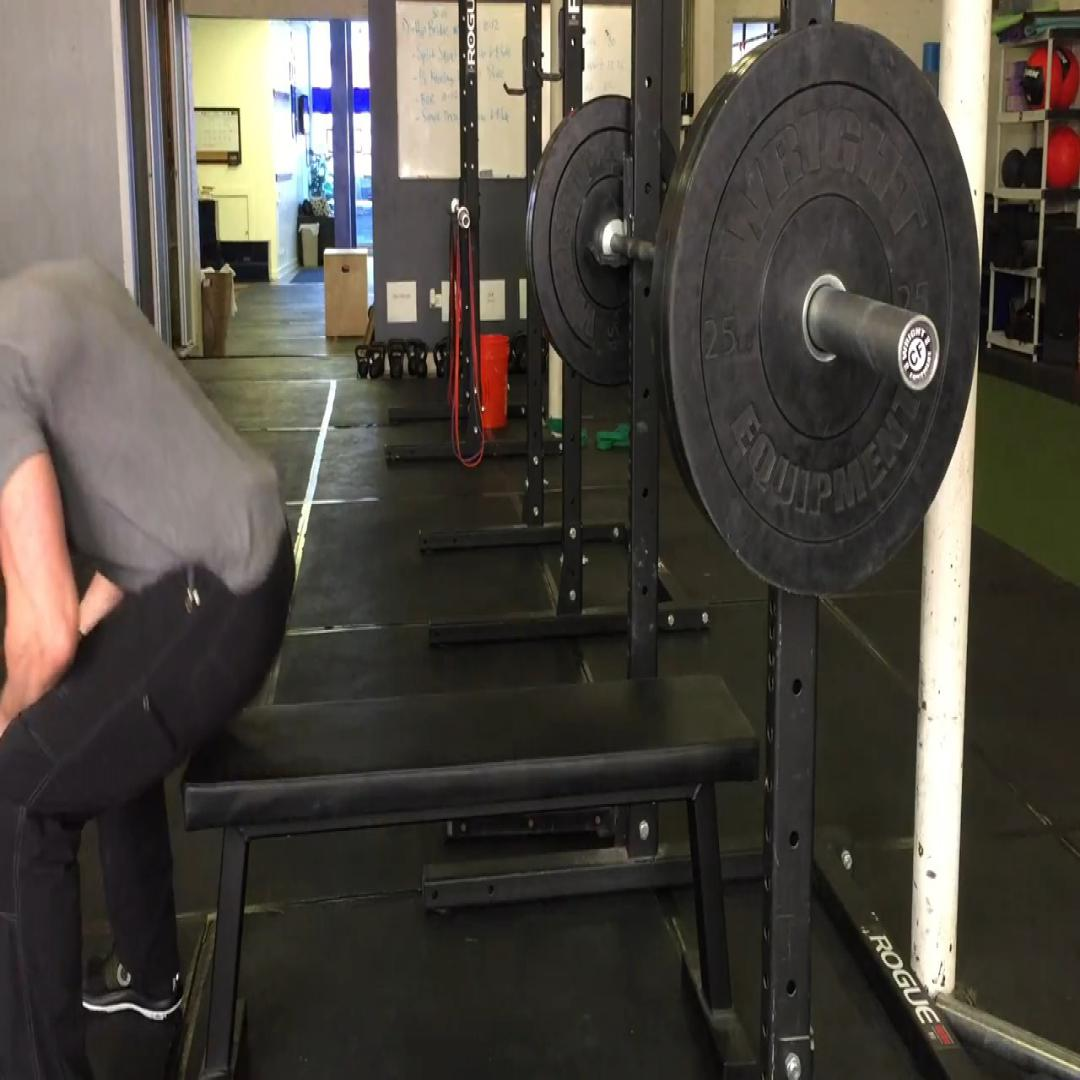Bar: (896, 310, 941, 395)
Barbell: (670, 21, 981, 600)
